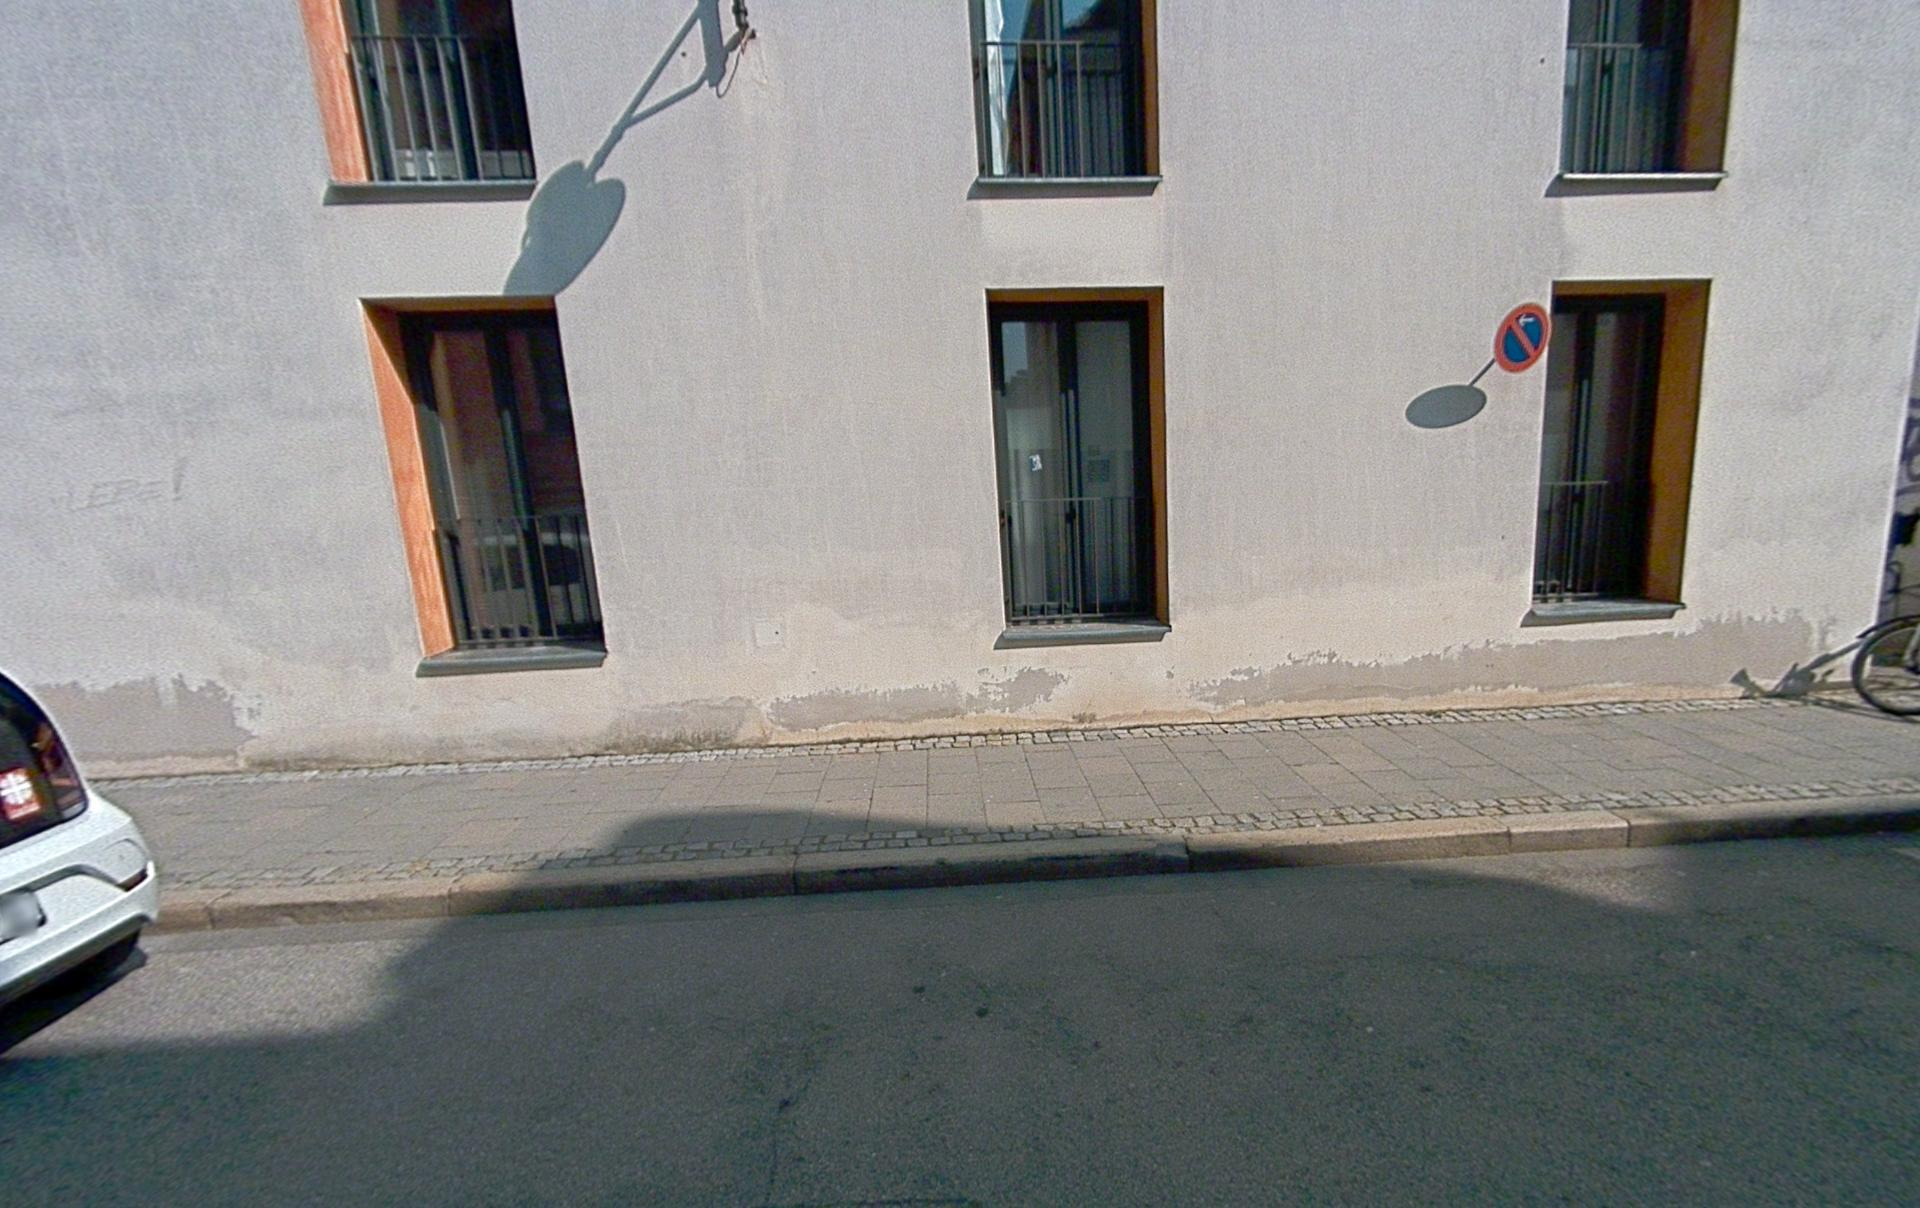car: (0, 668, 160, 1015)
traffic sign: (1493, 301, 1552, 374)
